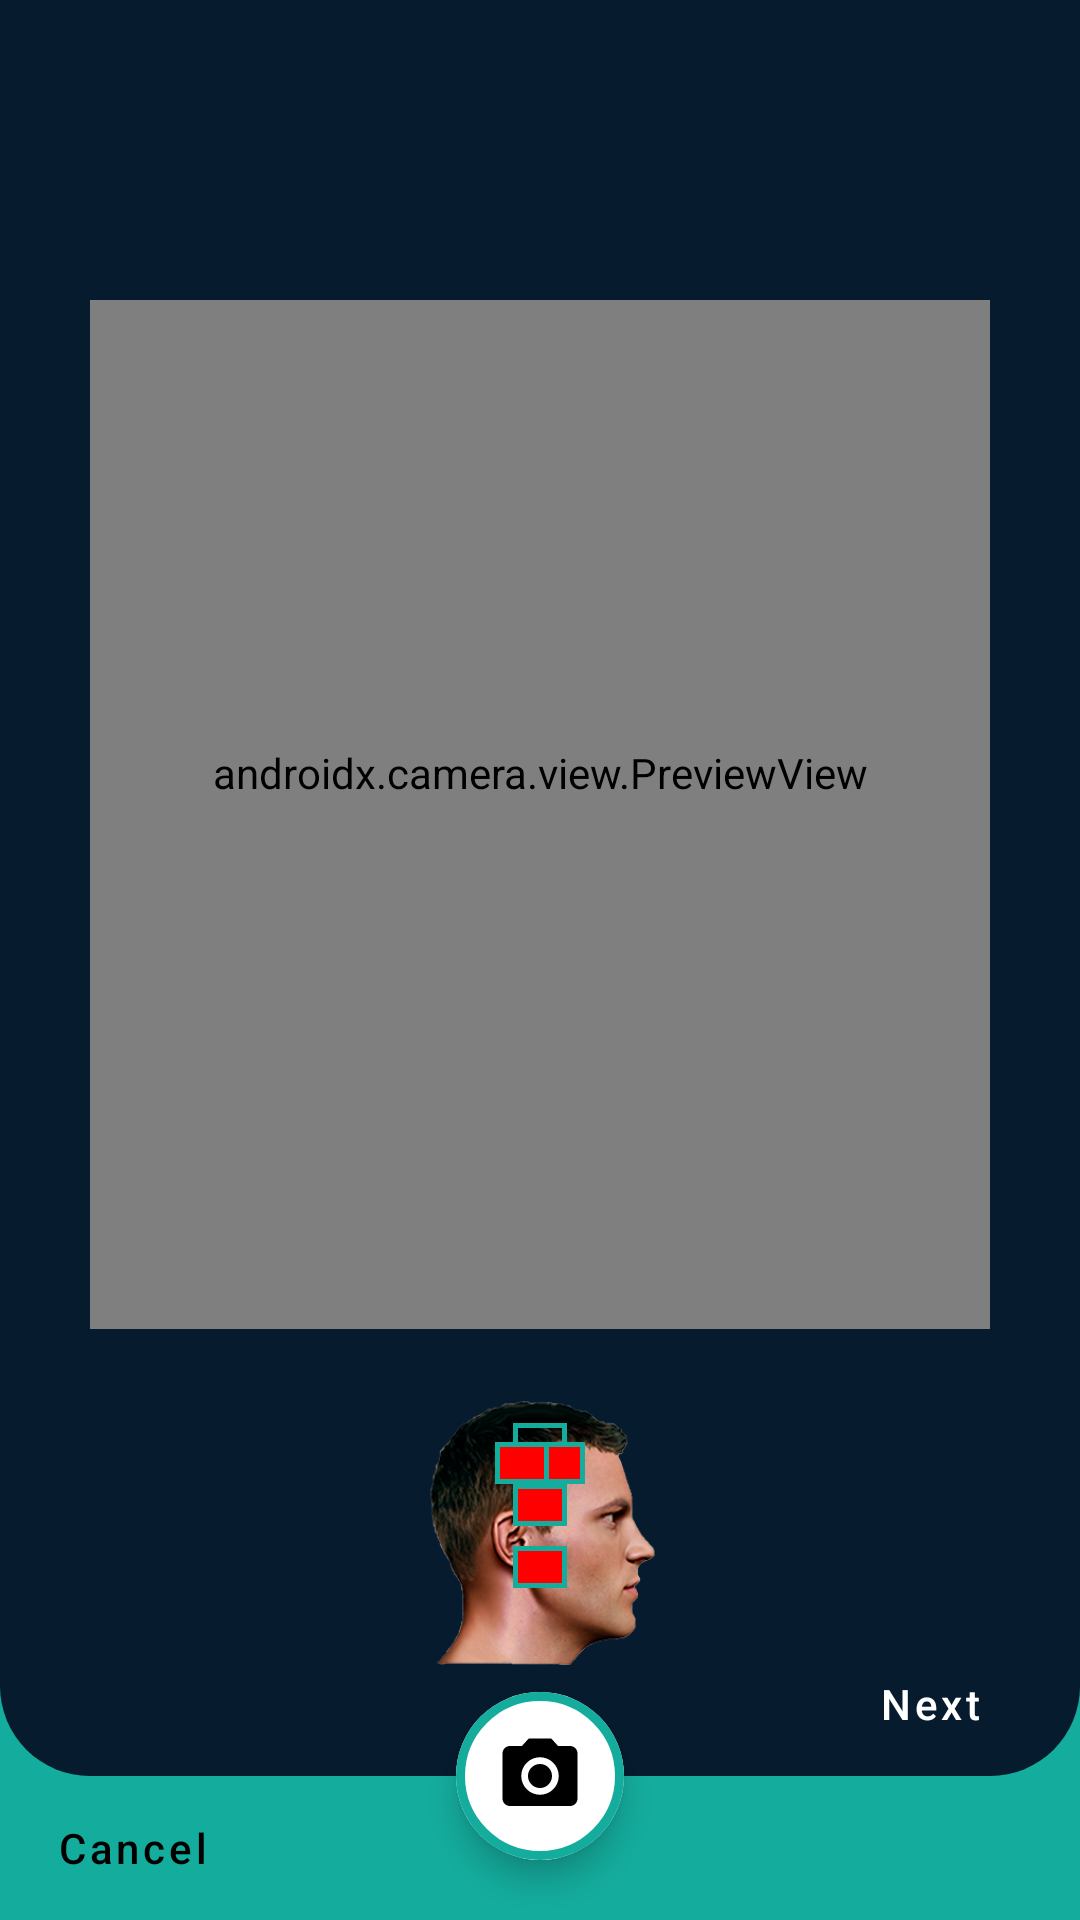

Where to tap for icons on this 1080x1920 app screen, as [x,y]:
camera: [540,1776]
male head left: [542,1533]
